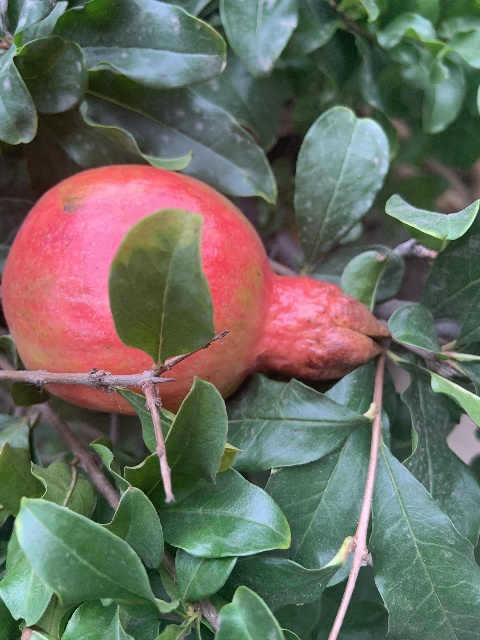ripe: (5, 165, 388, 412)
